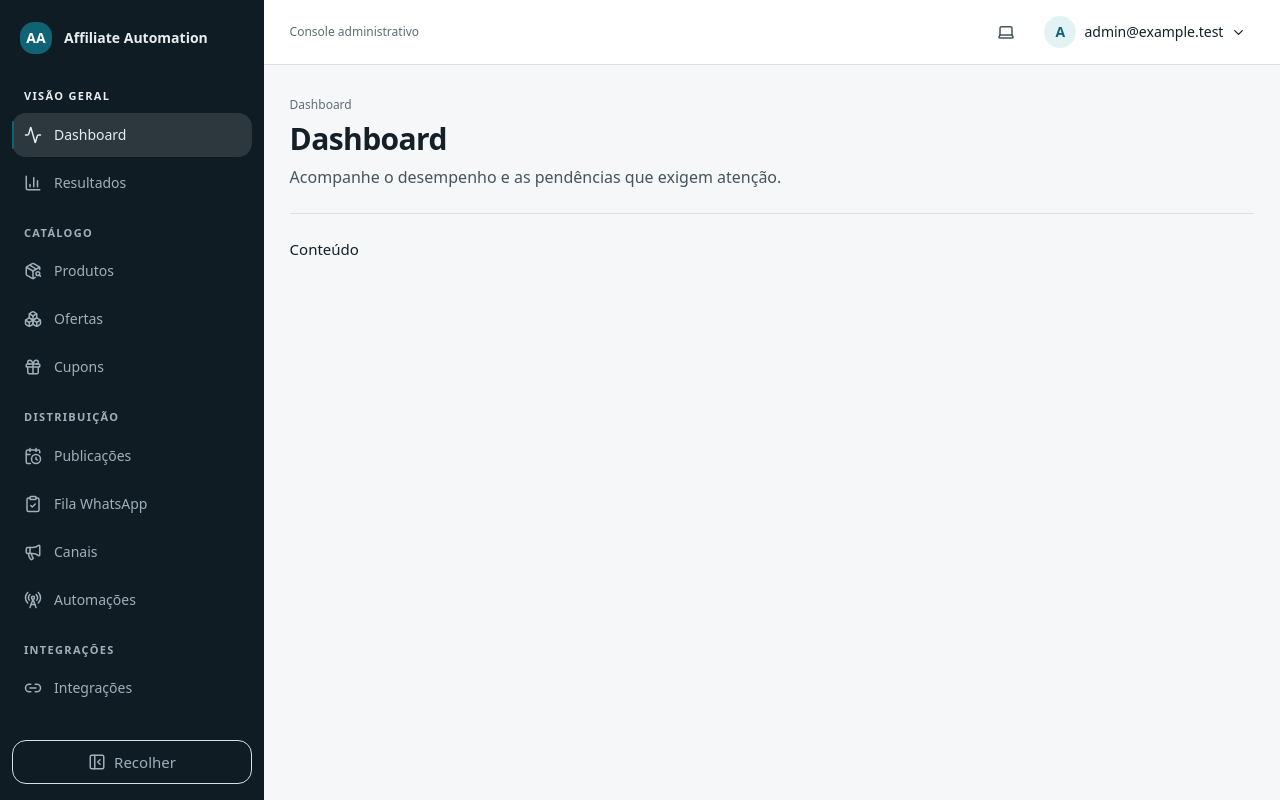
AdminShell › persists the collapsed sidebar preference
Click the button with aria-label "Recolher barra lateral" at (132, 762), box 12,740 -> 252,784
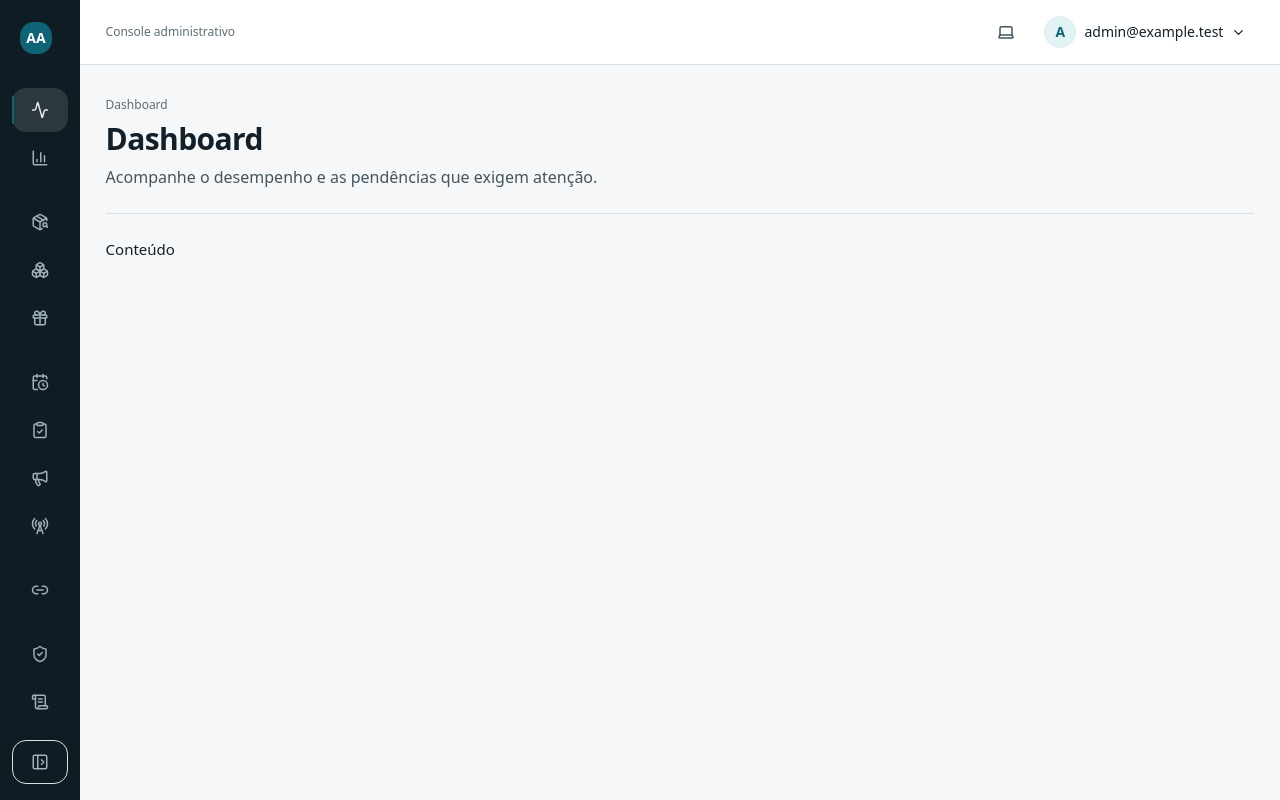
Result: the button named "Expandir barra lateral" is shown at 12,740 -> 68,784
